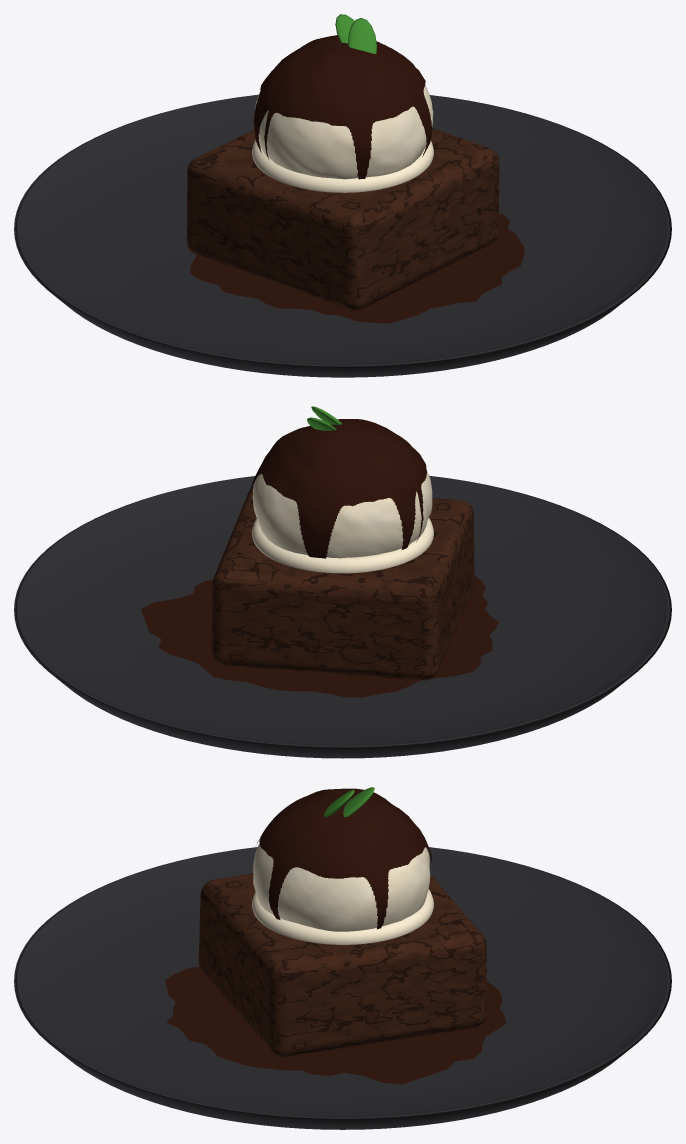
The model's file is brownie-sorvete.glb.
3 views of the same model, one above another, from view 1: azimuth 30°, elevation 25°; view 2: azimuth 150°, elevation 25°; view 3: azimuth 270°, elevation 25° (orthographic).
Bounding box in the file's own units: 0.2 × 0.0805 × 0.2.
Materials: 8 (3 with a texture image).
